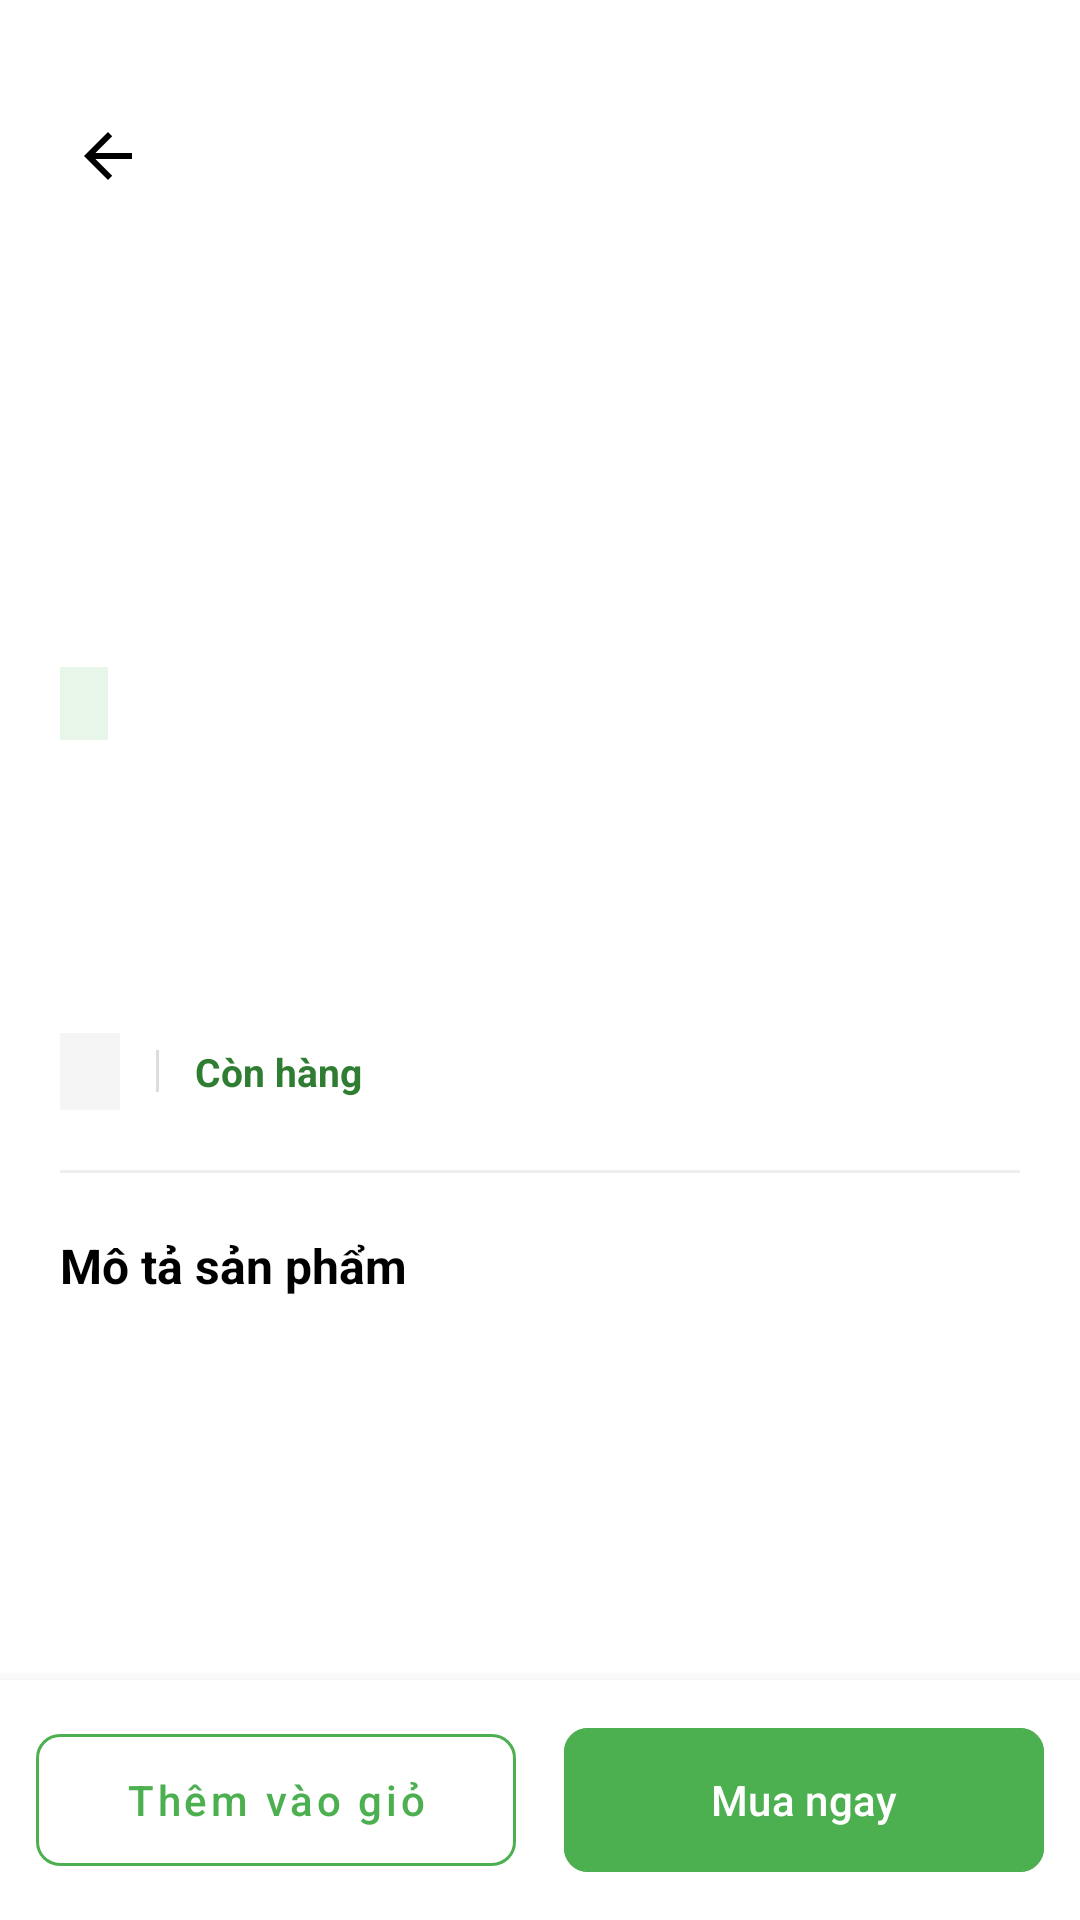

Point at icon controls on the screen. Image size 1080*1920, points as [x,y].
Back: [108,156]
